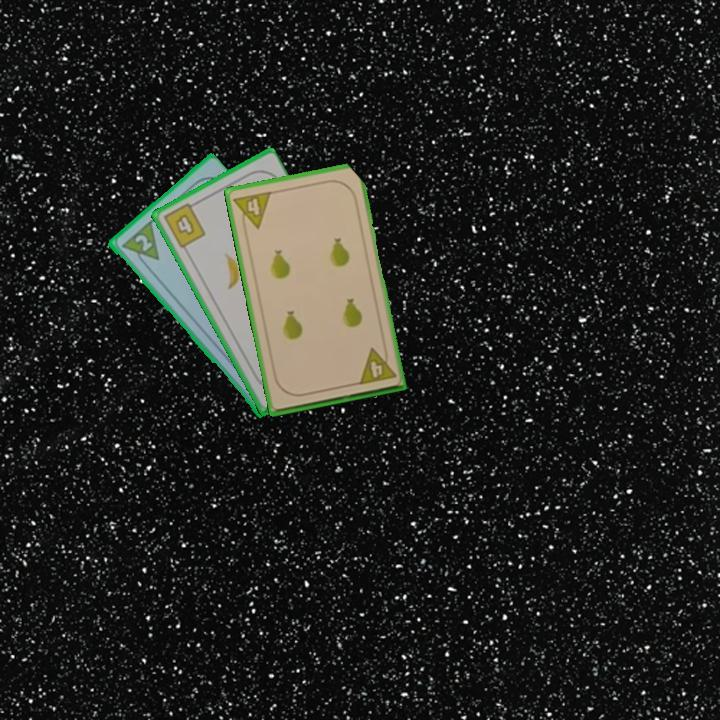2p: (131, 230, 155, 255)
4b: (160, 198, 209, 251)
4p: (230, 188, 274, 234), (355, 343, 399, 388)
